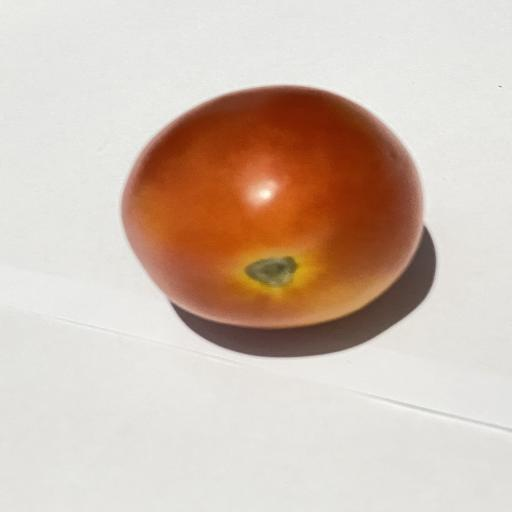ripe: (122, 86, 423, 329)
